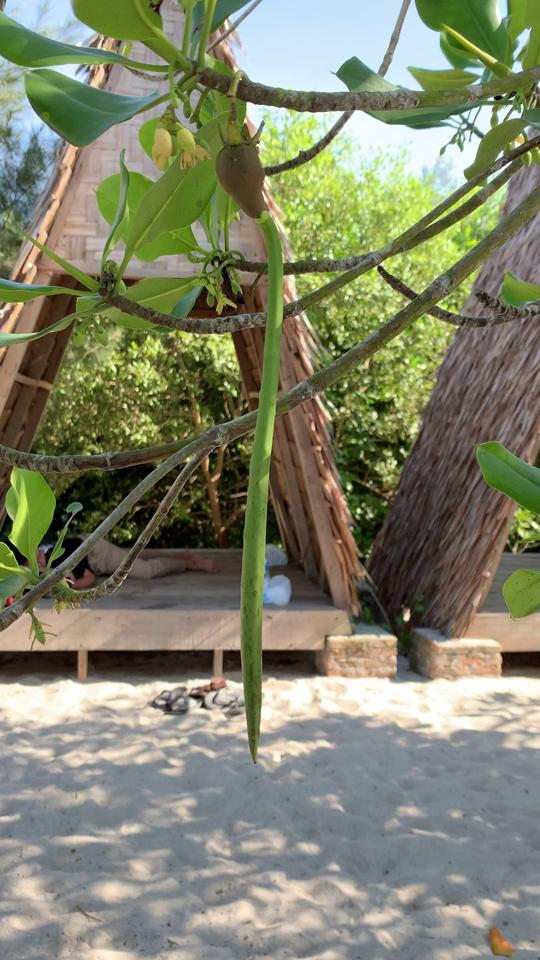setengah matang: (208, 123, 289, 773)
